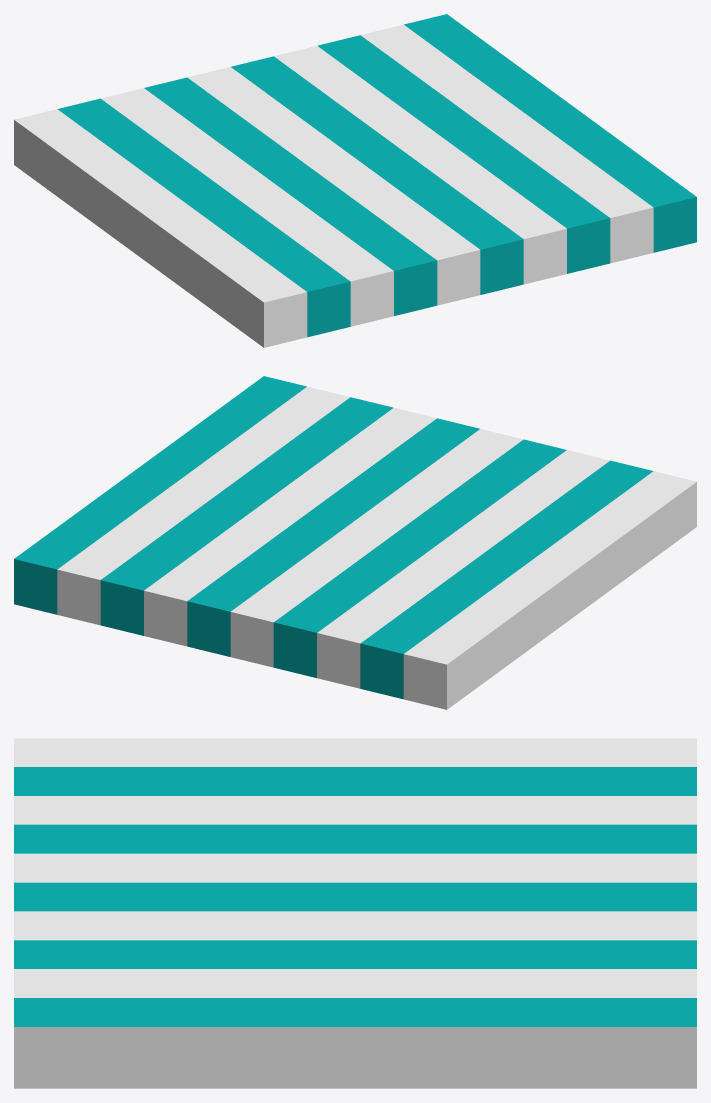
File: picnic.fbx
3 views of the same model, one above another, from view 1: azimuth 30°, elevation 25°; view 2: azimuth 150°, elevation 25°; view 3: azimuth 270°, elevation 25° (orthographic). The views are drawn at different scales.
Parts seen in each view (by area): view 1: pCube2; view 2: pCube2; view 3: pCube2.
Part boxes in pixels (<box>): pCube2: <box>14,14,696,347</box>; pCube2: <box>14,376,696,709</box>; pCube2: <box>14,738,696,1088</box>.
Bounding box in the file's own units: 10 × 1 × 10.
